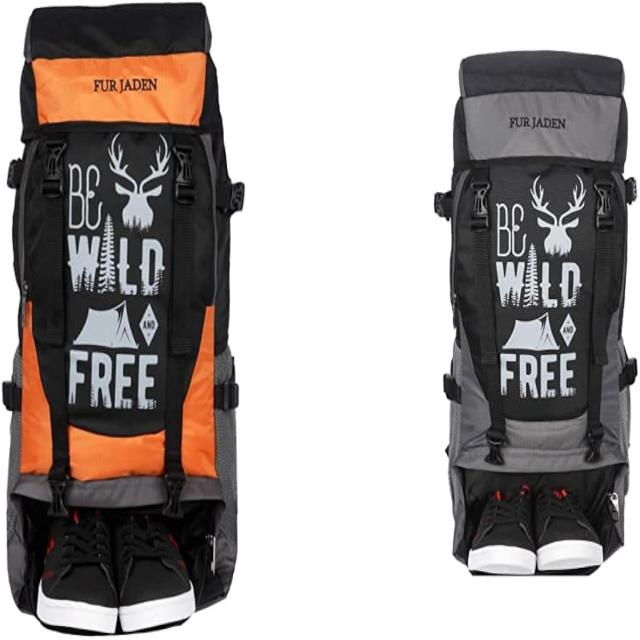backpack: (3, 3, 245, 637), (435, 50, 639, 578)
